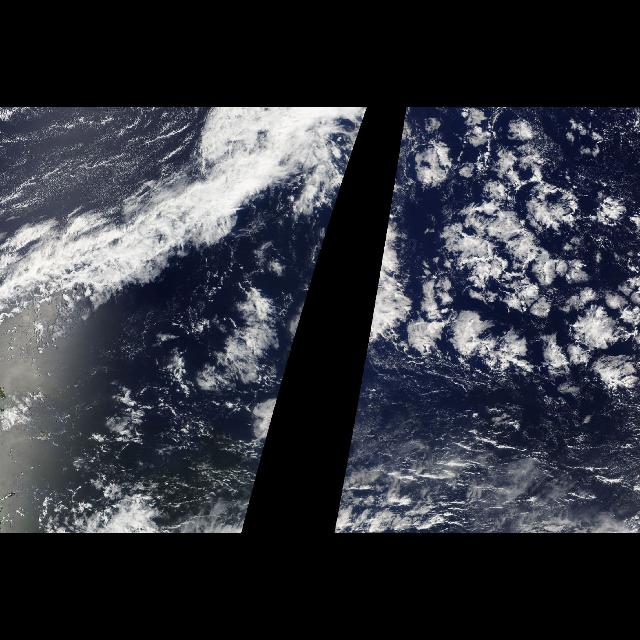Flower: (370, 116, 640, 432)
Sugar: (384, 118, 638, 398), (2, 134, 202, 233)
